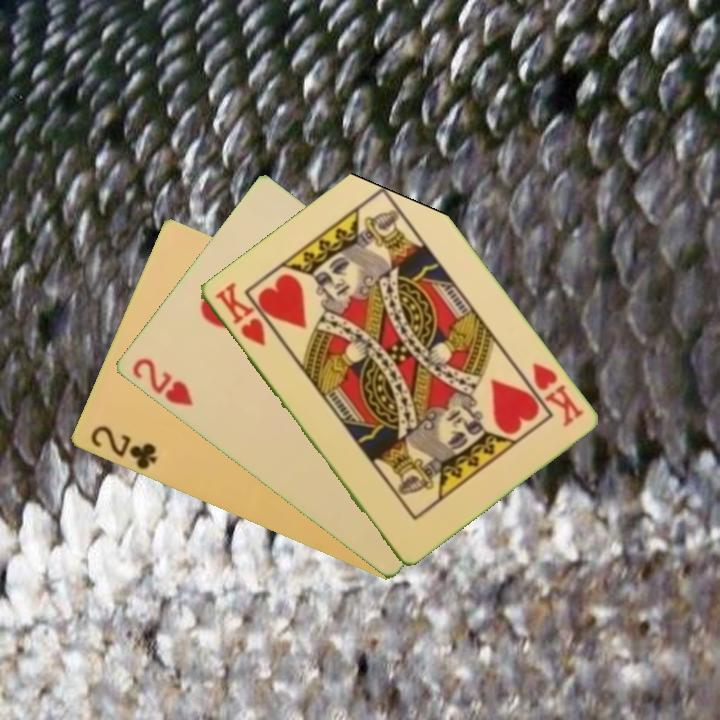2c: (86, 422, 160, 473)
2h: (128, 354, 196, 409)
Kh: (528, 359, 586, 430), (210, 279, 268, 349)
